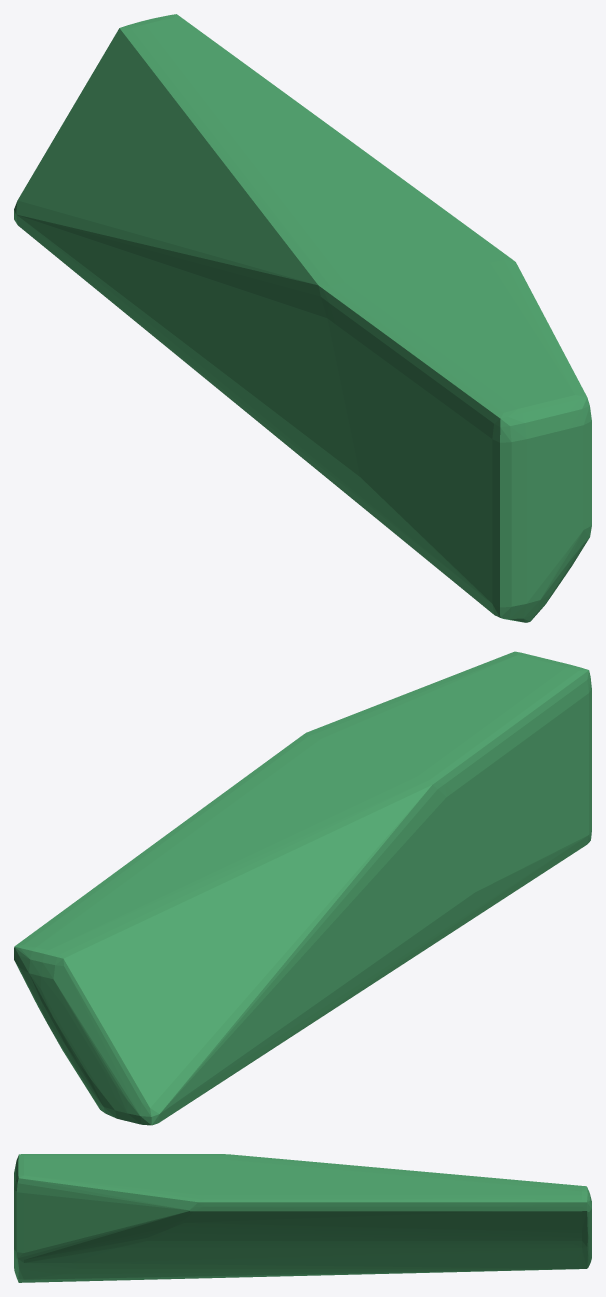
Rendered from left_shoulder_roll_link_part_3.obj.
3 views of the same model, one above another, from view 1: azimuth 30°, elevation 25°; view 2: azimuth 150°, elevation 25°; view 3: azimuth 270°, elevation 25° (orthographic). The views are drawn at different scales.
Bounding box in the file's own units: 0.00891 × 0.0102 × 0.0442.
